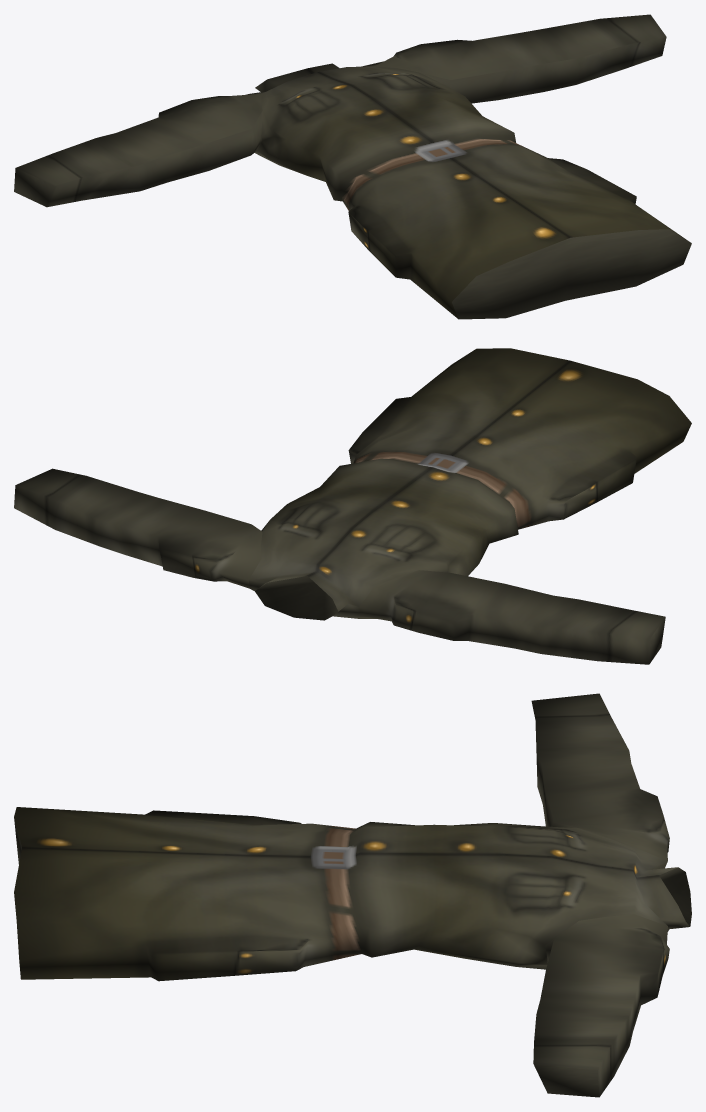
Rendered from Kurtk_10_Ground.fbx.
The picture shows the model from 3 angles, top to bottom: view 1: azimuth 30°, elevation 25°; view 2: azimuth 150°, elevation 25°; view 3: azimuth 270°, elevation 25°; orthographic projection. The views are drawn at different scales.
Parts seen in each view (by area): view 1: Body.037; view 2: Body.037; view 3: Body.037.
Part boxes in pixels (left/top/right/bottom): Body.037: left=14, top=14, right=691, bottom=319; Body.037: left=14, top=348, right=691, bottom=664; Body.037: left=14, top=693, right=691, bottom=1097.
Size of the model in its own units: 0.7551 by 0.0758 by 0.5754.
